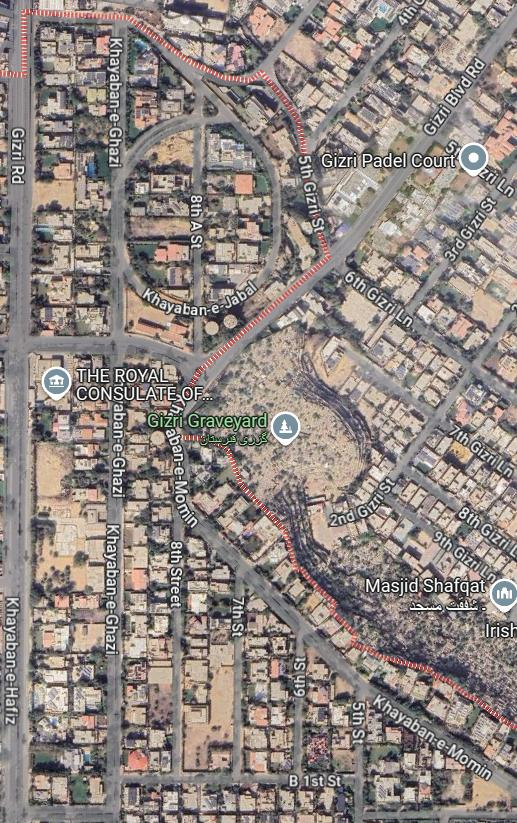Buildings: (24, 350, 109, 801), (32, 26, 121, 337), (126, 357, 180, 777), (129, 133, 198, 345), (367, 708, 517, 804), (186, 529, 242, 771), (209, 130, 273, 298), (129, 30, 216, 150), (246, 601, 298, 771), (306, 659, 354, 773)
